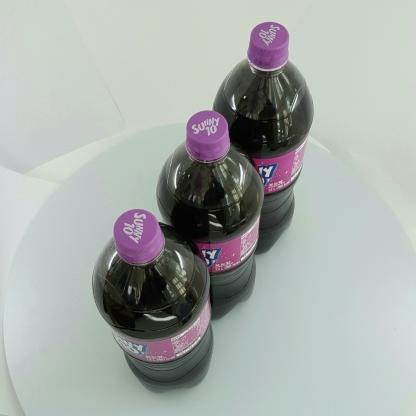-----------1-5L: (213, 21, 315, 254), (156, 110, 264, 321), (92, 209, 214, 393)
